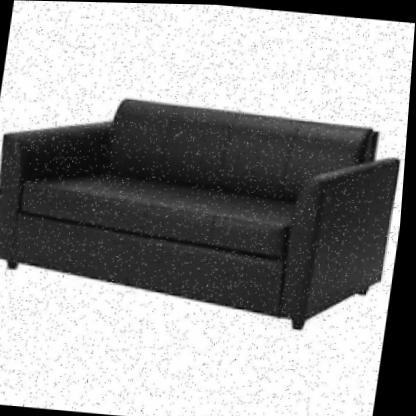Sofa: (0, 31, 414, 361)
